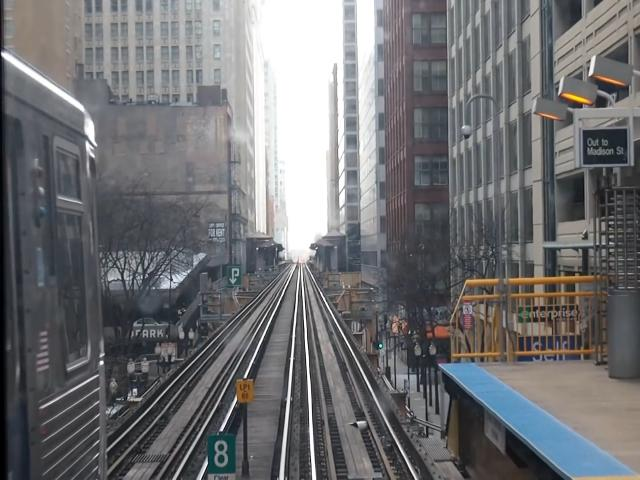signal light: (379, 335, 384, 353)
